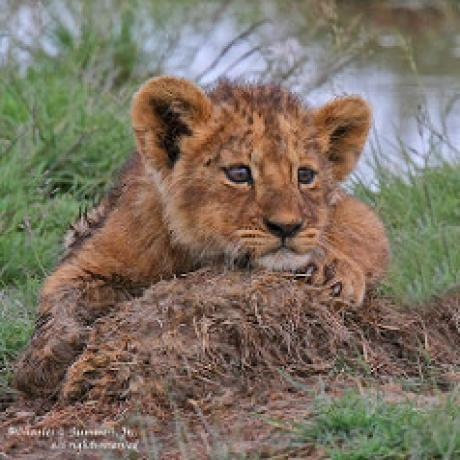Lion: (32, 52, 390, 397)
